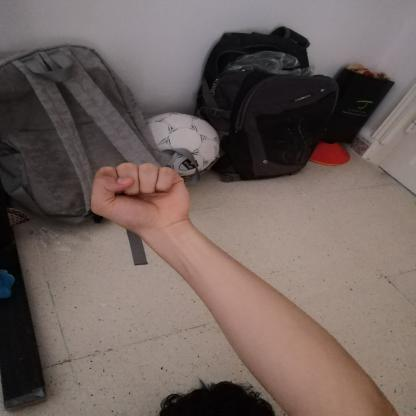SAD: (72, 152, 208, 240)
